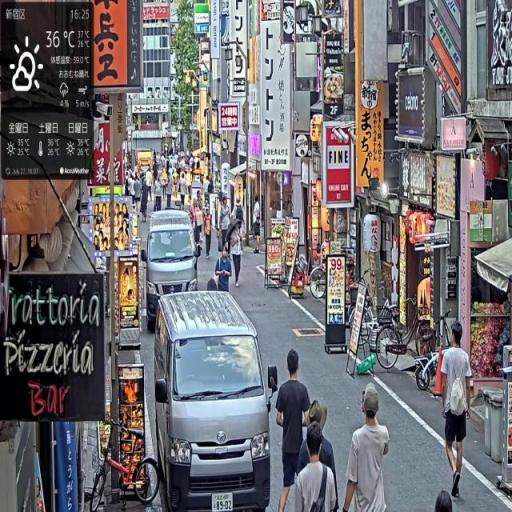person: (341, 384, 391, 512), (441, 323, 476, 504), (275, 347, 312, 511), (293, 427, 340, 512), (228, 220, 245, 290), (214, 243, 234, 293), (220, 195, 233, 257), (253, 193, 264, 257), (204, 204, 214, 260)
